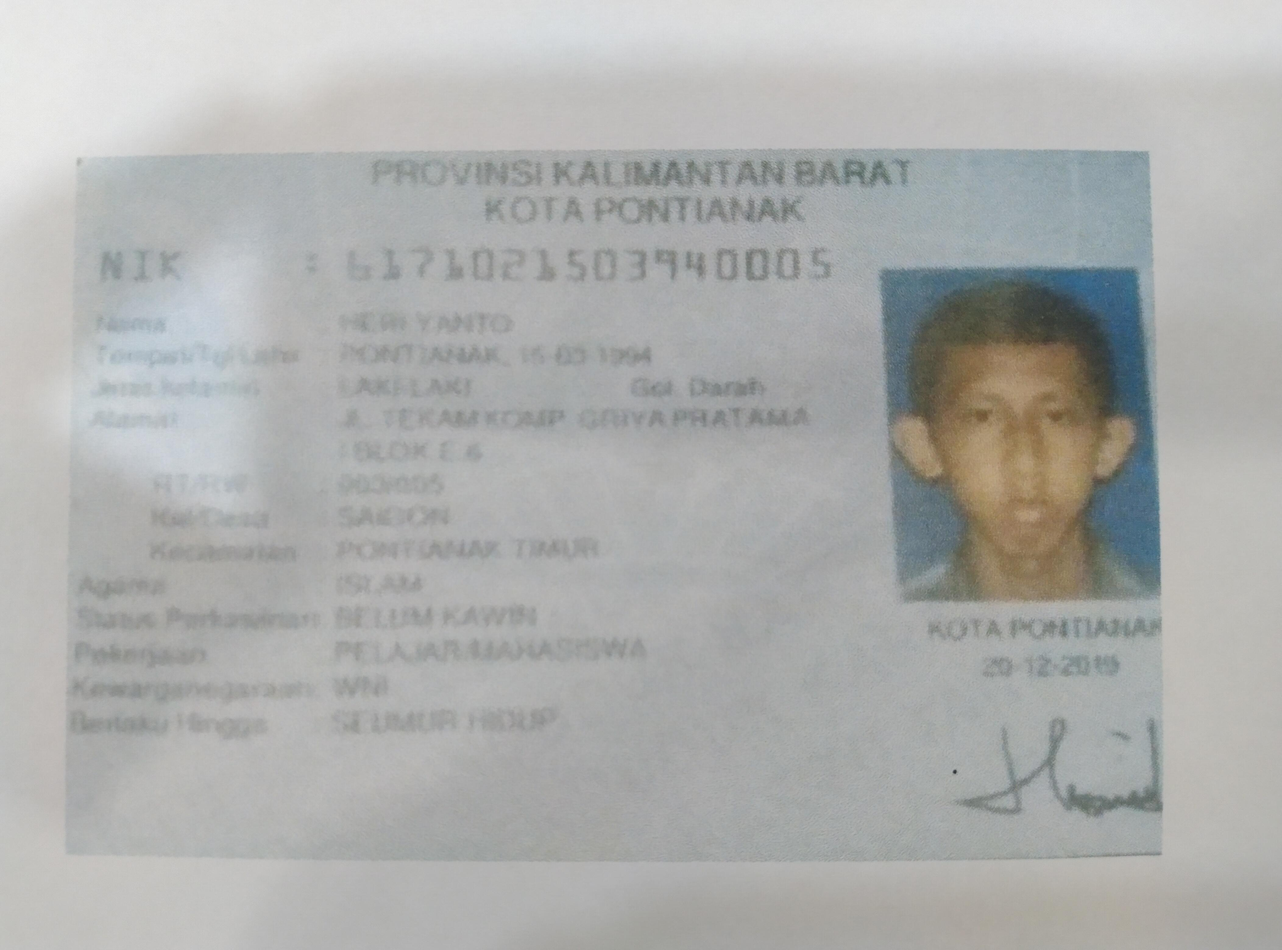ID-card: (72, 153, 1165, 853)
